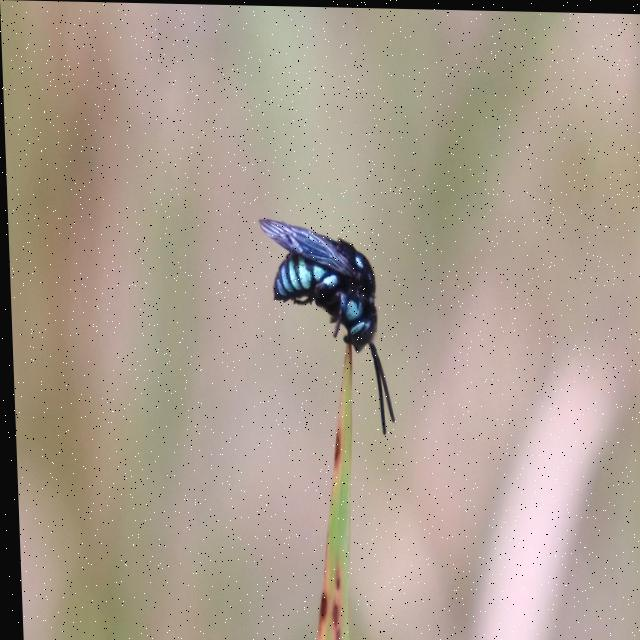Thyreus: (252, 198, 405, 441)
